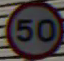Speed limit: (9, 2, 60, 52)
